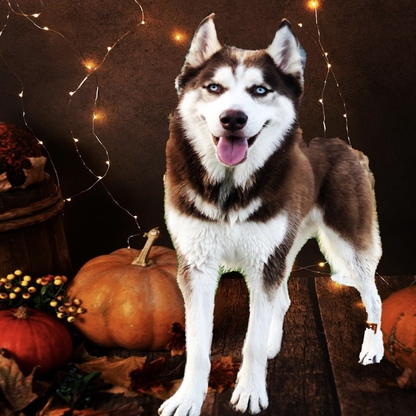husky: (146, 9, 395, 416)
